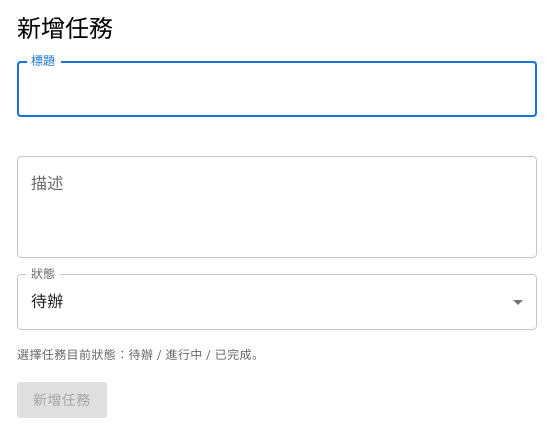
Test: 成功新增：清空表單＋成功 toast
Type "新任務" into the field labelled "標題".
click(277, 89); type("新任務")  # box x1=17 y1=61 x2=537 y2=117
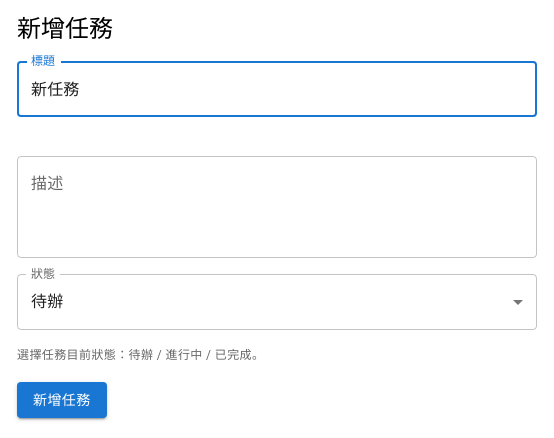
Type "說明" into the text box labelled "描述".
click(277, 207); type("說明")  # box x1=31 y1=172 x2=523 y2=241
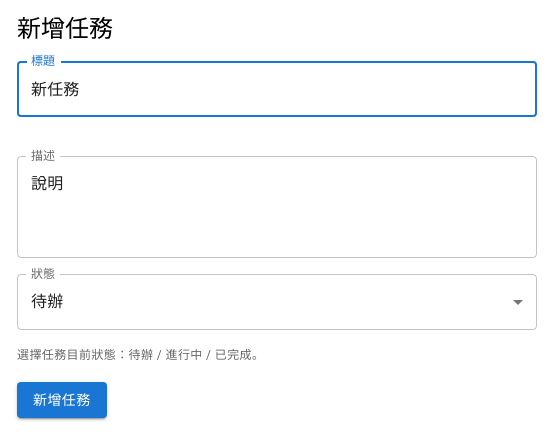
Expected: the button "新增任務" is enabled
Click the button "新增任務".
click(62, 400)  # box x1=17 y1=382 x2=107 y2=418
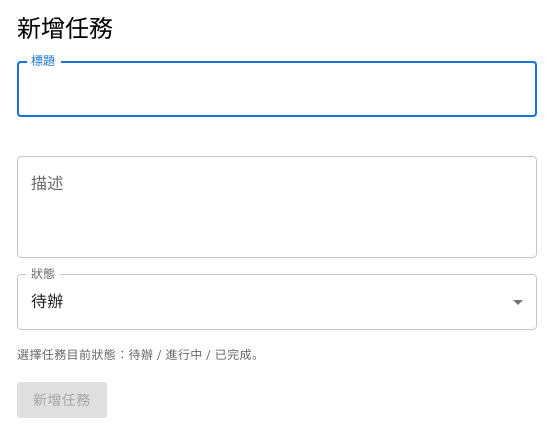
Expected: the field labelled "標題" is empty, x1=17 y1=61 x2=537 y2=117
Expected: the text box labelled "描述" is empty, x1=31 y1=172 x2=523 y2=241
Expected: the button "新增任務" is disabled, x1=17 y1=382 x2=107 y2=418
